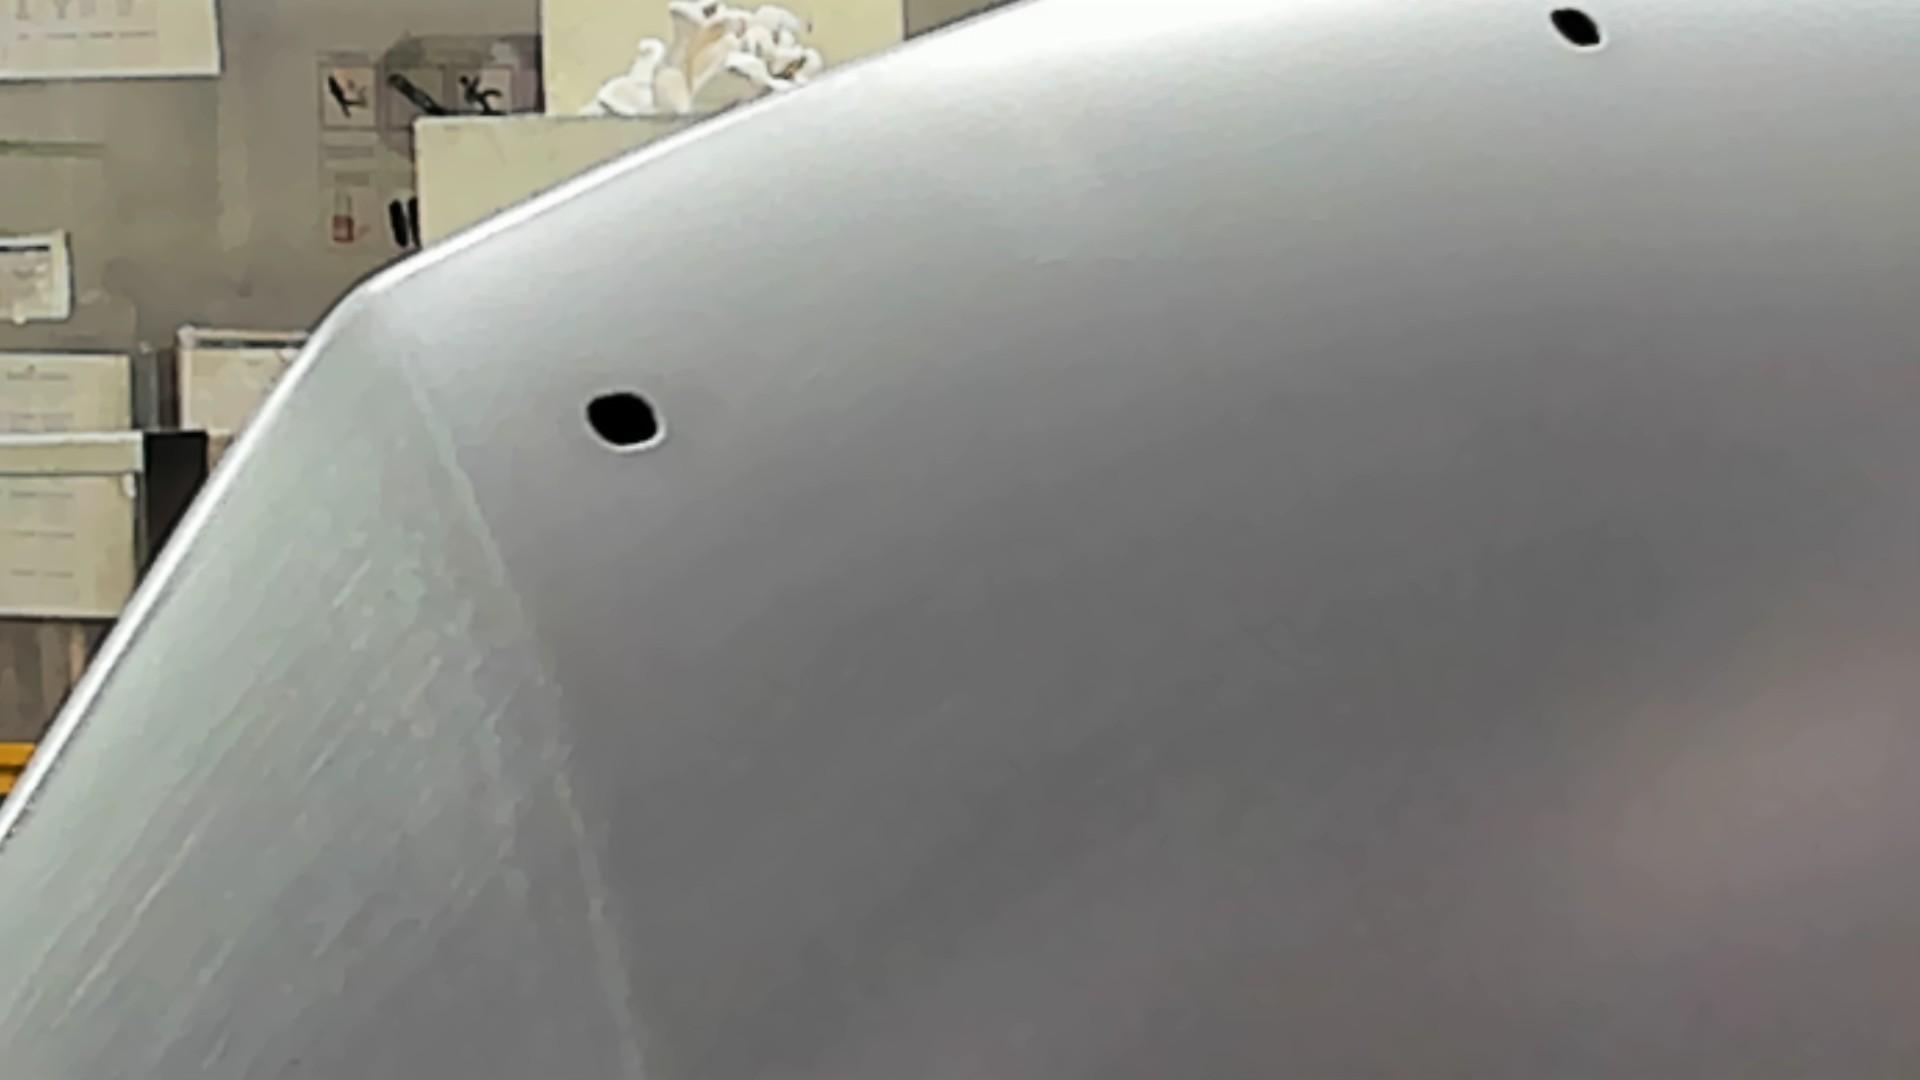amorfo: (578, 382, 665, 454), (1543, 4, 1605, 51)
capo: (845, 111, 1915, 1080)
